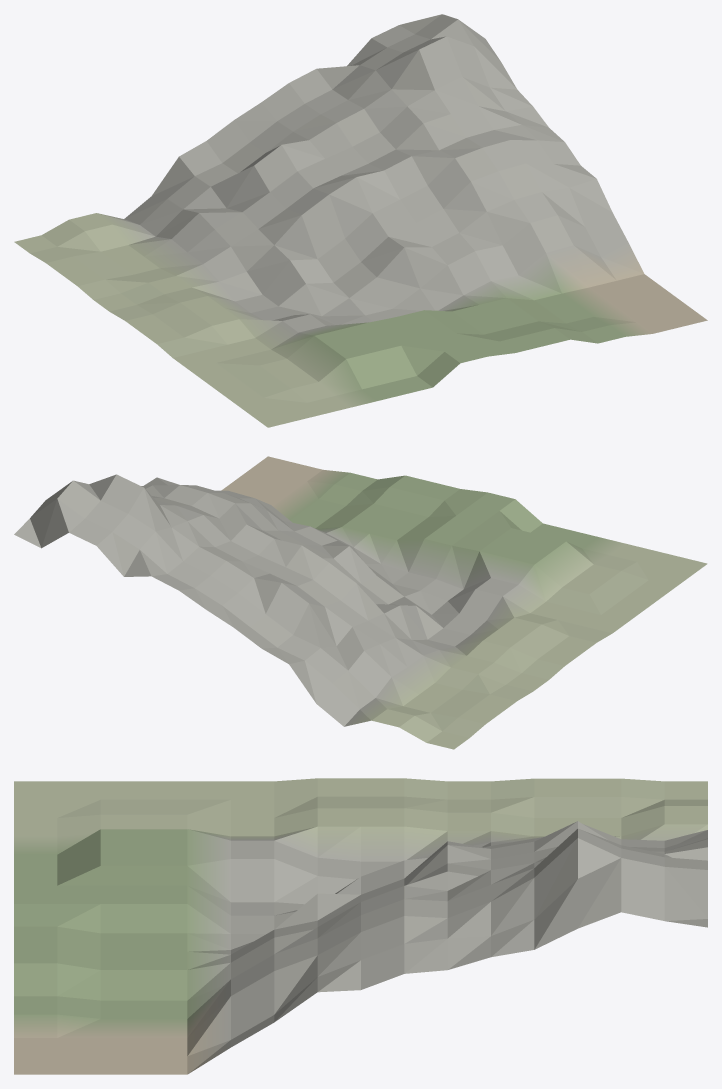
3 views of the same model, one above another, from view 1: azimuth 30°, elevation 25°; view 2: azimuth 150°, elevation 25°; view 3: azimuth 270°, elevation 25° (orthographic). The views are drawn at different scales.
Bounding box in the file's own units: 32 × 10.88 × 32.
